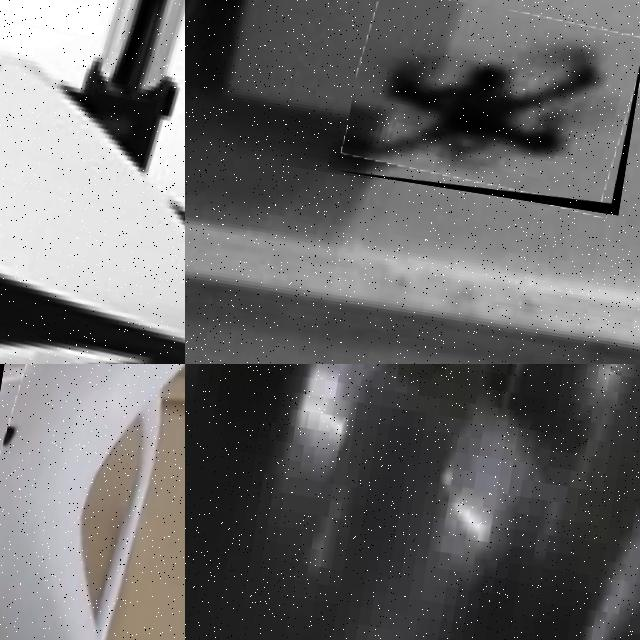0: (341, 0, 640, 215)
drone: (0, 0, 185, 364), (0, 364, 185, 640)
